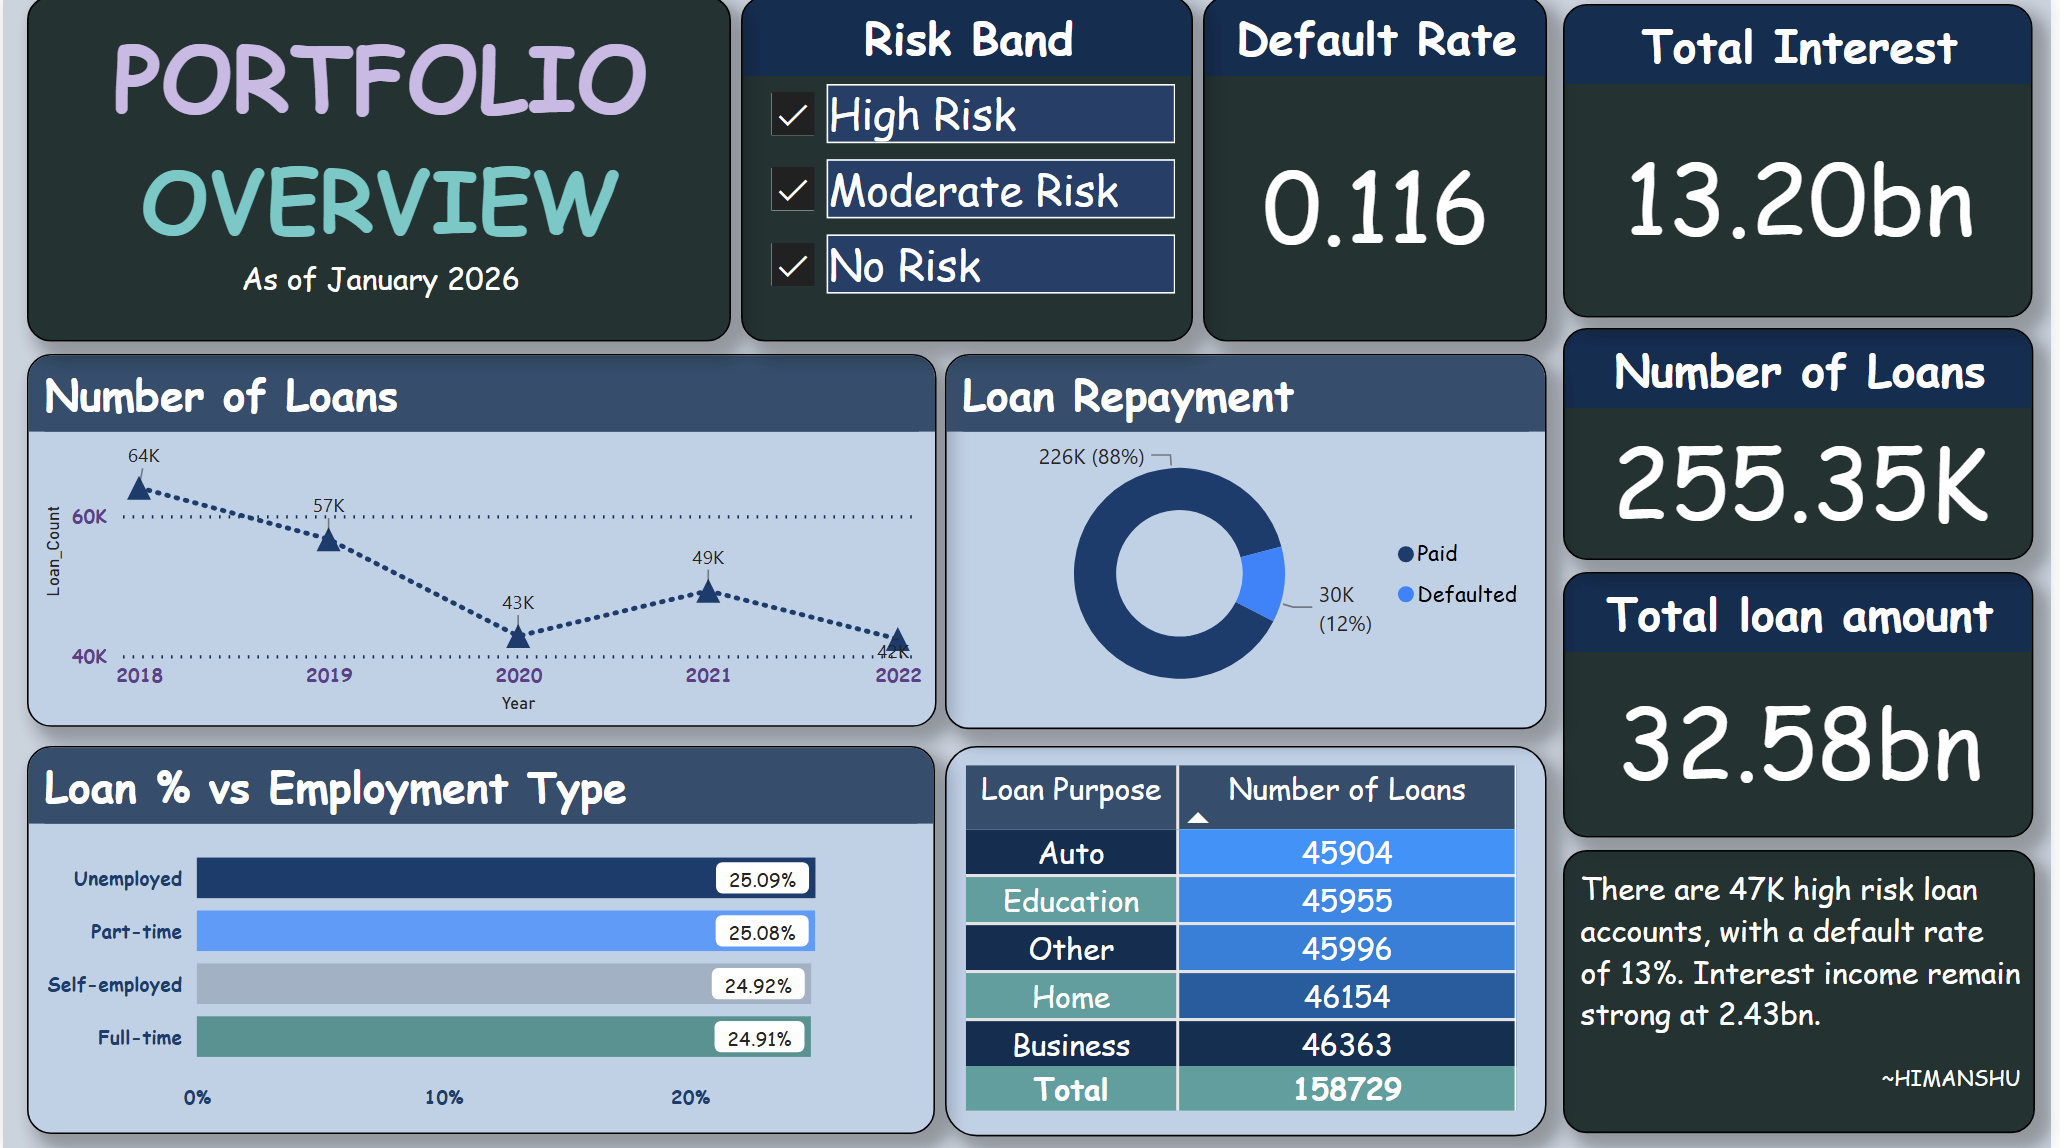

The page's visual inventory and layout, read from the dashboard file:
{"tool":"powerbi","page":{"name":"Executive_Overview","canvas":[1280,720],"ordinal":0},"visuals":[{"type":"card","title":"Total loan amount","fields":{"Values":["KPI_Measures.Total_Loan_Amount"]},"box":[975.4,360,294,165.9],"z":0},{"type":"card","title":"Number of Loans","fields":{"Values":["KPI_Measures.Loan_Count"]},"box":[975.4,207.3,294,145.1],"z":1000},{"type":"card","title":"Default Rate","fields":{"Values":["KPI_Measures.Default_Rate"]},"box":[750.1,0,215,216.1],"z":2000},{"type":"card","title":"Total Interest","fields":{"Values":["KPI_Measures.Total_Interest"]},"box":[975.1,4.7,293.6,195.8],"z":3000},{"type":"lineChart","title":"Number of Loans","fields":{"Y":["KPI_Measures.Loan_Count"],"Category":["Fact_Loan.Issue_Date.Variation.Date Hierarchy.Year","Fact_Loan.Issue_Date.Variation.Date Hierarchy.Quarter","Fact_Loan.Issue_Date.Variation.Date Hierarchy.Month","Fact_Loan.Issue_Date.Variation.Date Hierarchy.Day"]},"box":[15.1,223.4,568.3,232.8],"z":4000},{"type":"clusteredBarChart","title":"Loan % vs Employment Type","fields":{"Category":["Dim_Customer.EmploymentType"],"Y":["Fact_Loan.Loan_Amount"]},"box":[15.4,468.8,567.5,242.6],"z":5000},{"type":"donutChart","title":"Loan Repayment","fields":{"Category":["Fact_Loan.Loan_Status"],"Y":["KPI_Measures.Loan_Count"]},"box":[589,223.4,376,234.7],"z":6000},{"type":"tableEx","title":"Loan Amount vs Sector","fields":{"Values":["Fact_Loan.LoanPurpose","Fact_Loan.Loan_Amount"]},"box":[589,468.4,376,244.1],"z":7000},{"type":"slicer","title":"Risk Band","fields":{"Values":["Dim_Customer.Credit_Risk_Band"]},"box":[460.8,0,282.7,215.8],"z":8000},{"type":"textbox","box":[15.1,0,440.1,215.8],"z":9000},{"type":"textbox","title":"Overall","box":[975.4,533.4,295,177.2],"z":10000}]}

Visuals, with their boxes in screenshot pixels (x1, y1, x2, y2), scaled from the page's 1280x720 canvas onto the 2060x1148 screenshot:
"Total loan amount" card: bbox(1570, 574, 2043, 839)
"Number of Loans" card: bbox(1570, 331, 2043, 562)
"Default Rate" card: bbox(1207, 0, 1553, 345)
"Total Interest" card: bbox(1569, 7, 2042, 320)
"Number of Loans" lineChart: bbox(24, 356, 939, 727)
"Loan % vs Employment Type" clusteredBarChart: bbox(25, 747, 938, 1134)
"Loan Repayment" donutChart: bbox(948, 356, 1553, 730)
"Loan Amount vs Sector" tableEx: bbox(948, 747, 1553, 1136)
"Risk Band" slicer: bbox(742, 0, 1197, 344)
textbox: bbox(24, 0, 733, 344)
"Overall" textbox: bbox(1570, 850, 2045, 1133)
